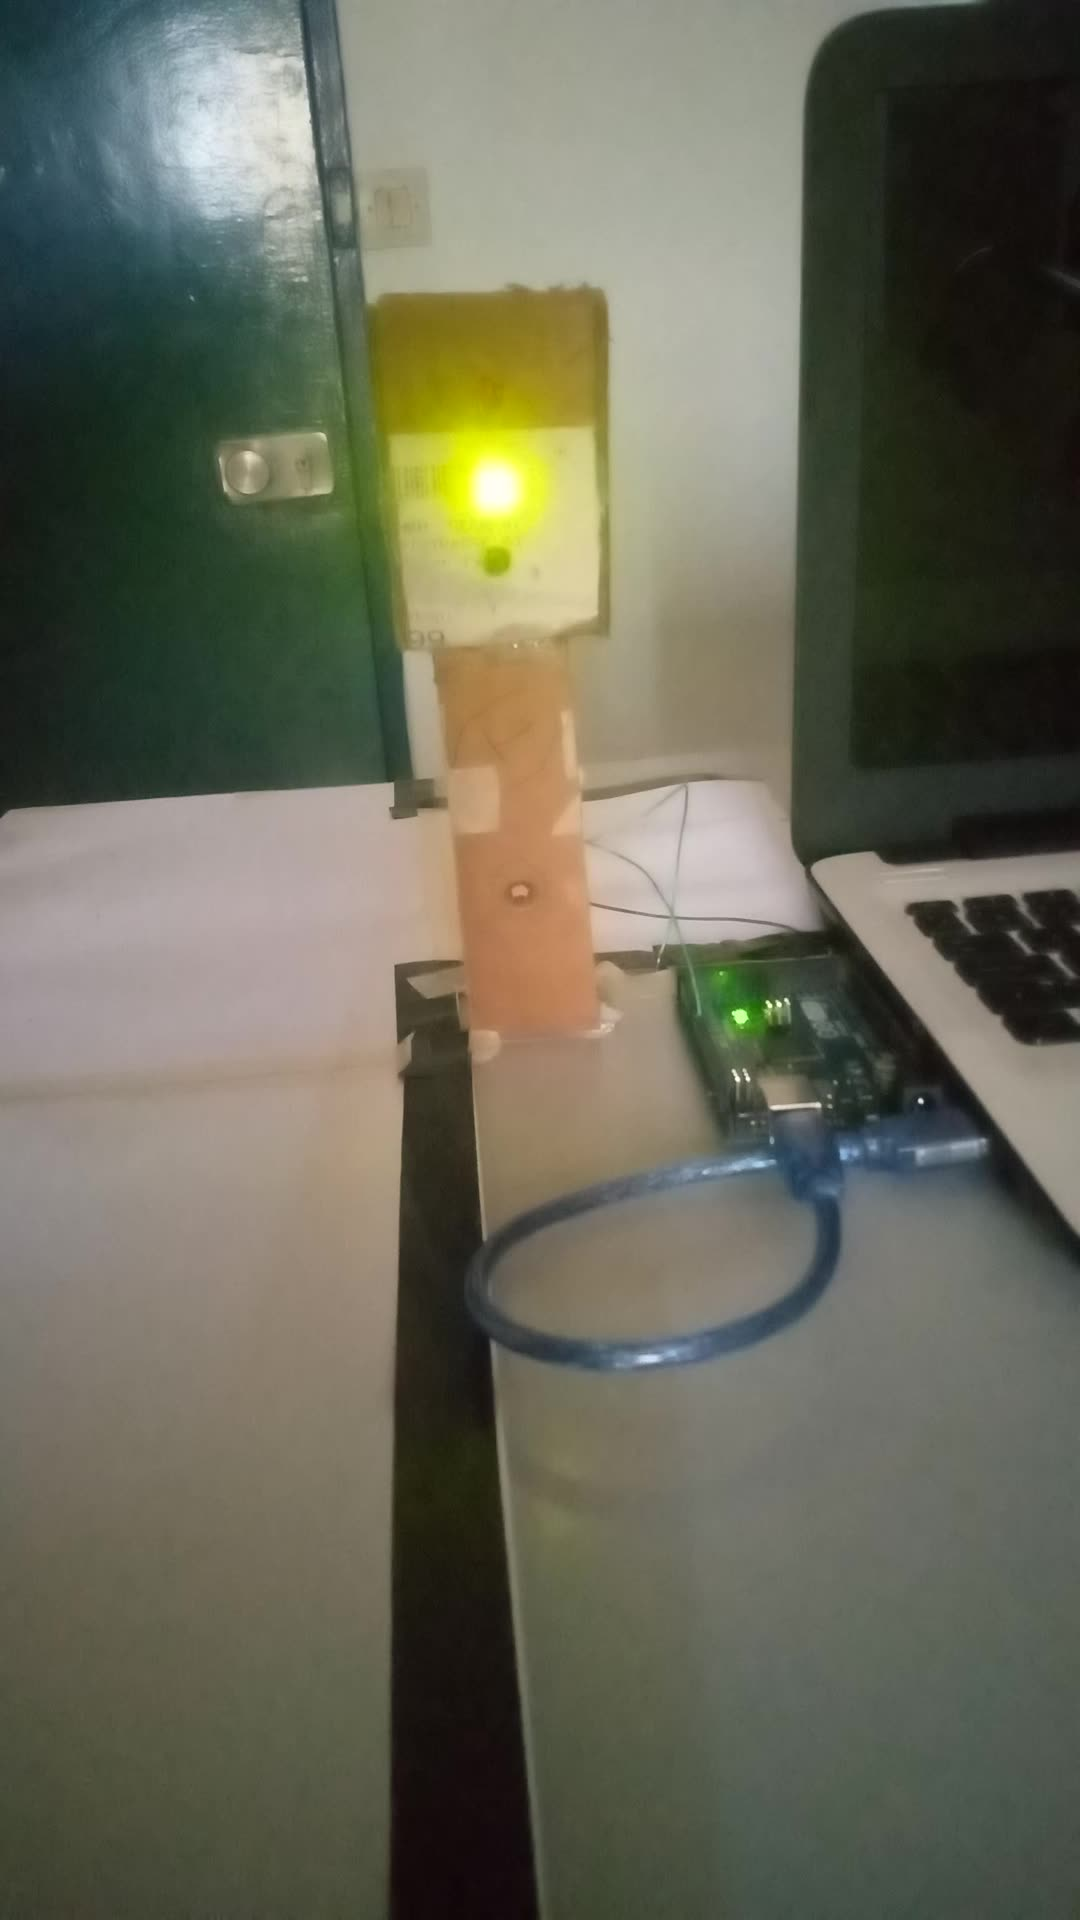yellow: (375, 291, 615, 654)
